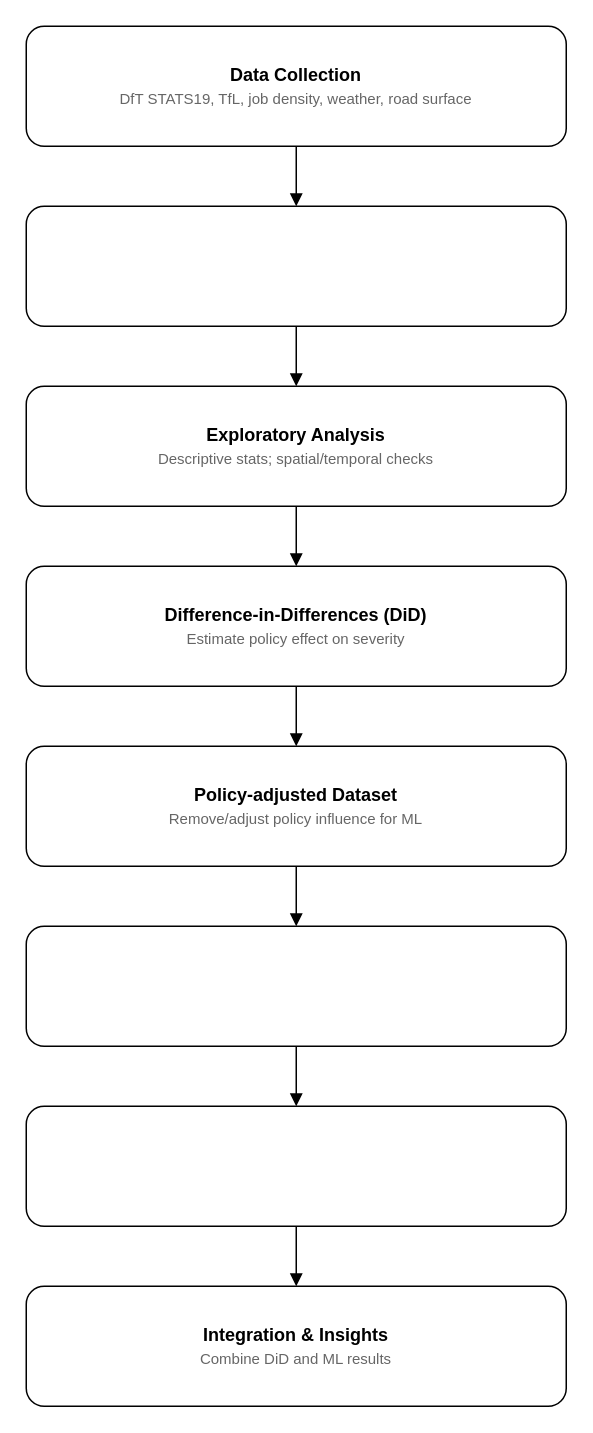
Some shapes in this 593 by 1433 pixel diagram are drawn without their labels. Here are the shapes that lost their labels. From the top down, the box of each, then its label:
(25, 205, 566, 326): Pre-processing Merge datasets; clean & encode
(25, 925, 566, 1046): Machine Learning Models Train & evaluate (AUC, confusion matrix)
(25, 1105, 566, 1226): SHAP Interpretation Explain feature contributions & importance
